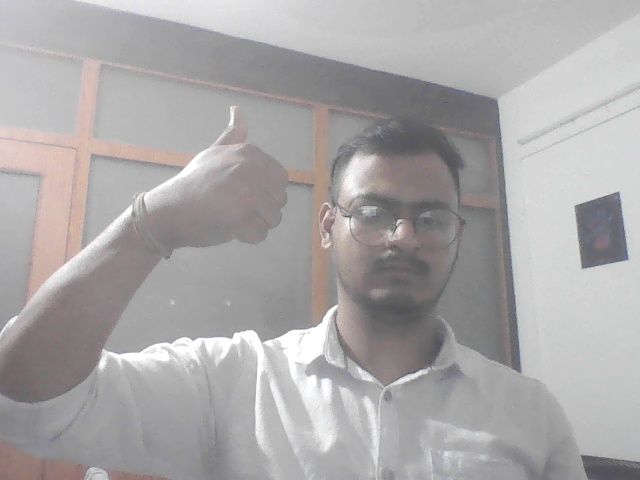Good: (173, 100, 300, 251)
